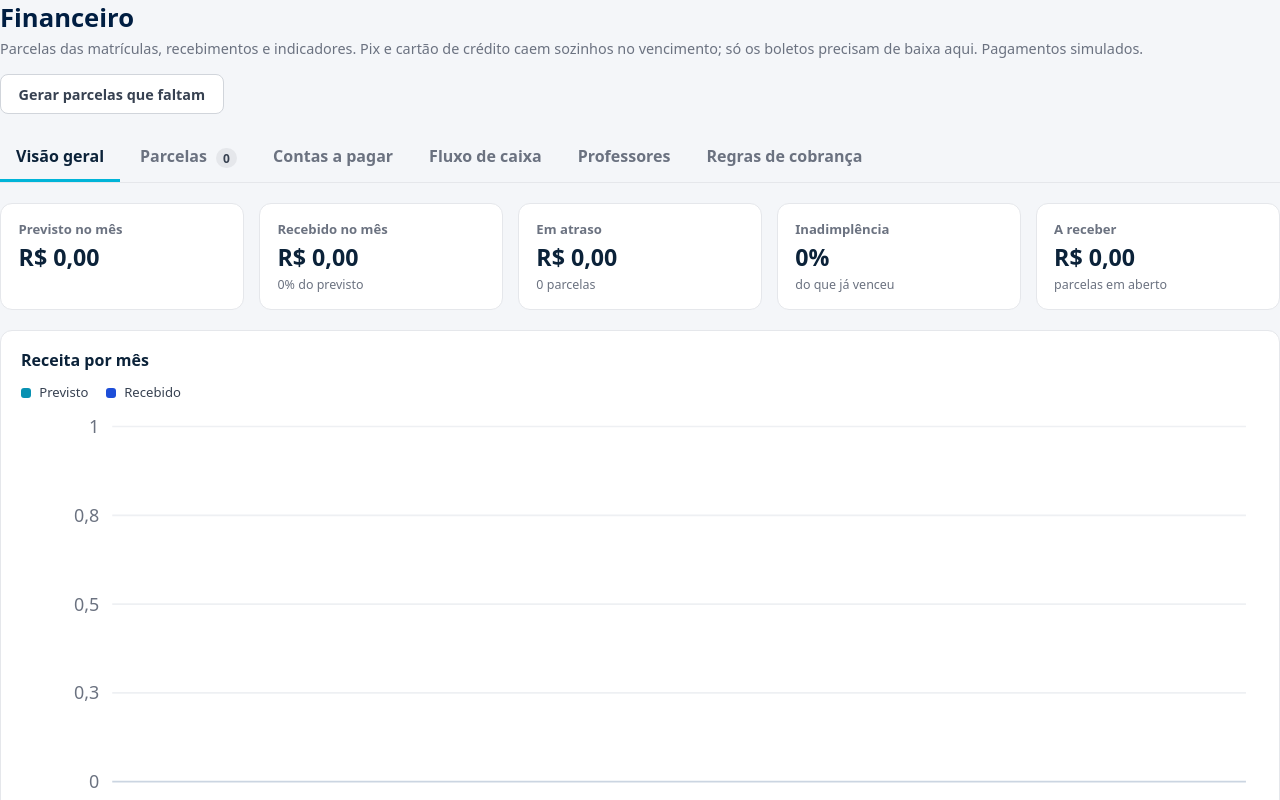
it: baixa com multa, juros e desconto › as abas novas aparecem e não mostram o botão de gerar parcelas
Expected: the text "Previsto no mês" is shown, [19,220,122,238]
Click the tab "Contas a pagar": (333, 158) [257,134,409,182]
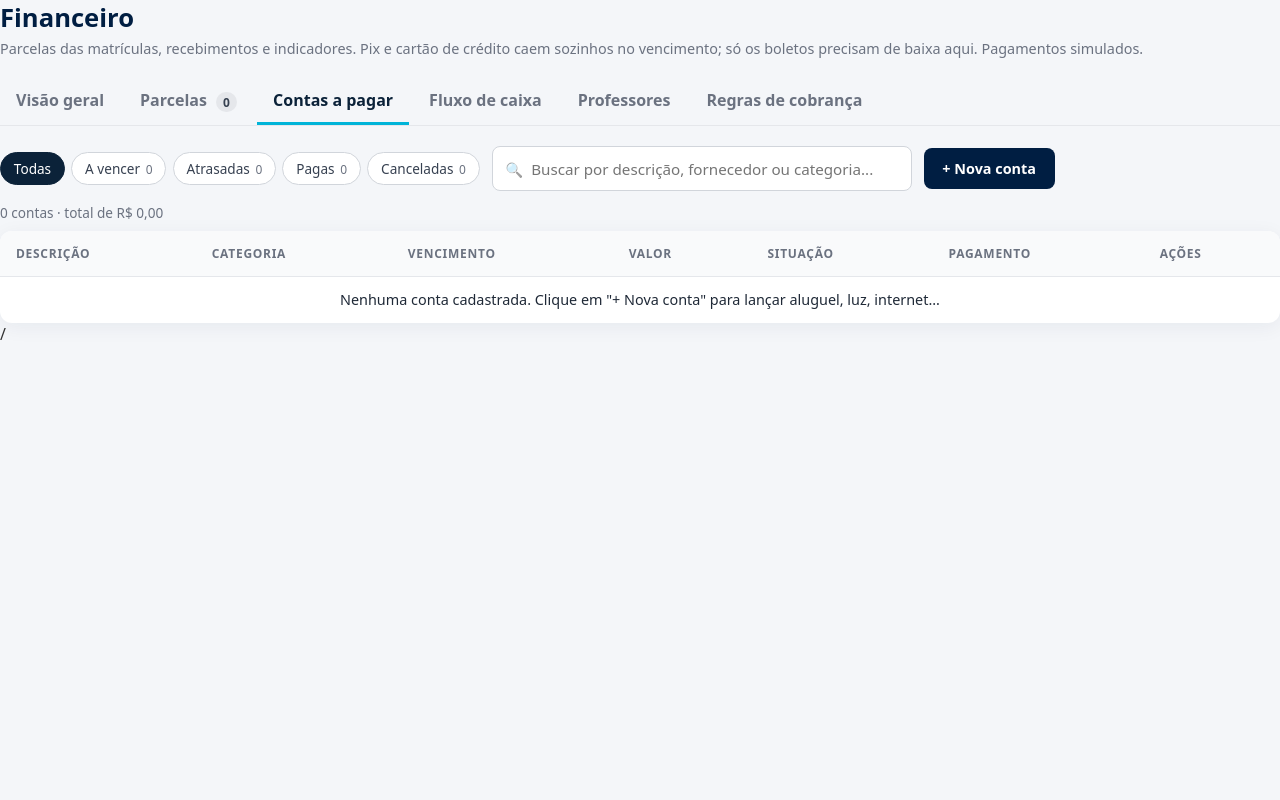
Expected: the tabs read "Visão geral", "Parcelas 0", "Contas a pagar", "Fluxo de caixa", "Professores", "Regras de cobrança", in this order, [0,78,120,125]; [124,78,253,125]; [257,78,409,125]; [413,78,558,125]; [562,78,686,125]; [690,78,878,125]
Now the text "Nenhuma conta cadastrada" is shown, box [340,290,940,309]
Now the button "Gerar parcelas que faltam" is gone
